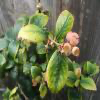Blueberry leaf: (46, 49, 68, 99), (55, 10, 76, 42), (16, 23, 48, 44), (80, 76, 99, 94), (9, 39, 22, 62), (86, 60, 99, 78), (29, 66, 43, 81)
